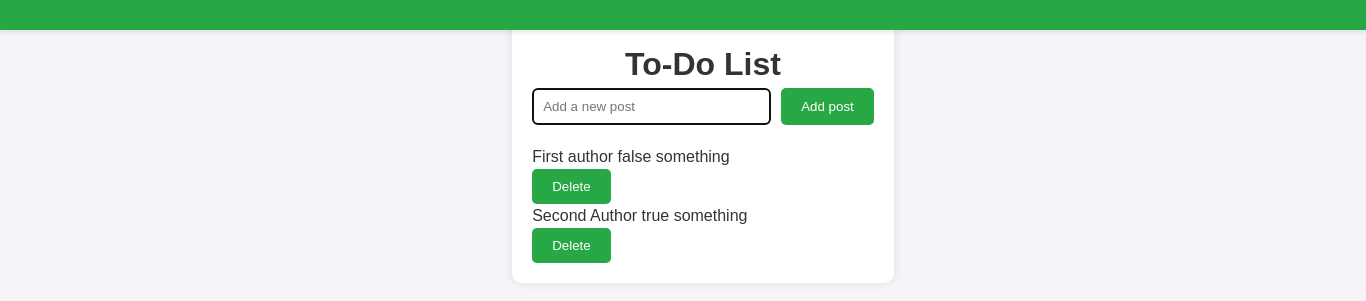
Scenario: deletes a post
The width and height of the screenshot is (1366, 301).
Expected: the text "First author" is shown, [532,148,613,165]
Click the button with class "delete-btn" below "First author" at (571, 186), box [532,169,611,204]
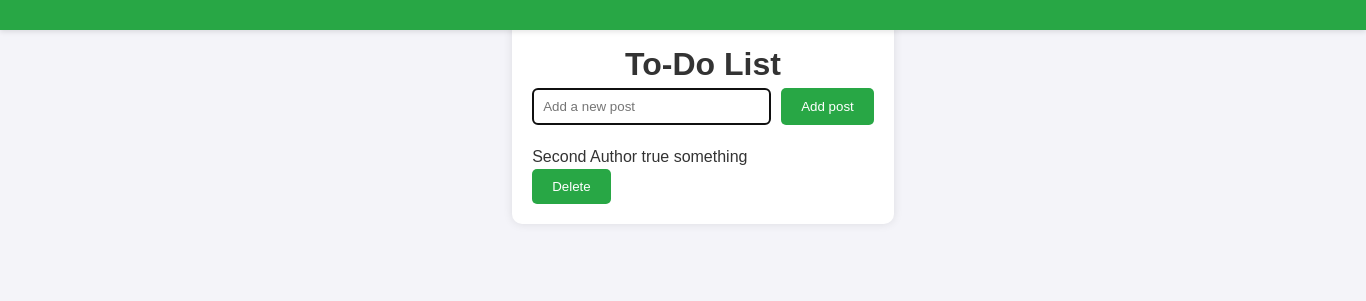
Result: the text "First author" is gone
